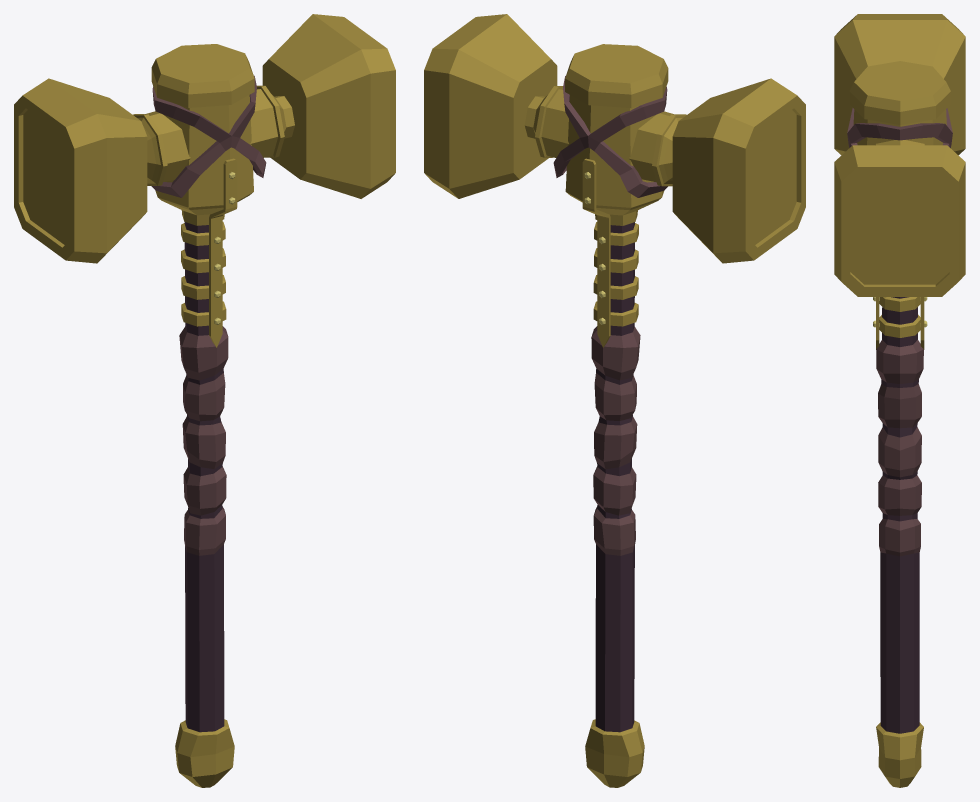
File: Hammer_Double_Golden.glb
3 renders of one model, left to right at view 1: azimuth 30°, elevation 25°; view 2: azimuth 150°, elevation 25°; view 3: azimuth 270°, elevation 25°, orthographic. The views are drawn at different scales.
Parts seen in each view (by area): view 1: Hammer_Double_Golden_Cylinder.040; view 2: Hammer_Double_Golden_Cylinder.040; view 3: Hammer_Double_Golden_Cylinder.040.
Boxes of the visible parts, x1,y1,x2,y2 form: Hammer_Double_Golden_Cylinder.040: [14, 14, 395, 787]; Hammer_Double_Golden_Cylinder.040: [424, 14, 805, 787]; Hammer_Double_Golden_Cylinder.040: [834, 14, 965, 787].
Size of the model in its own units: 1.18 by 2.53 by 0.4291.
